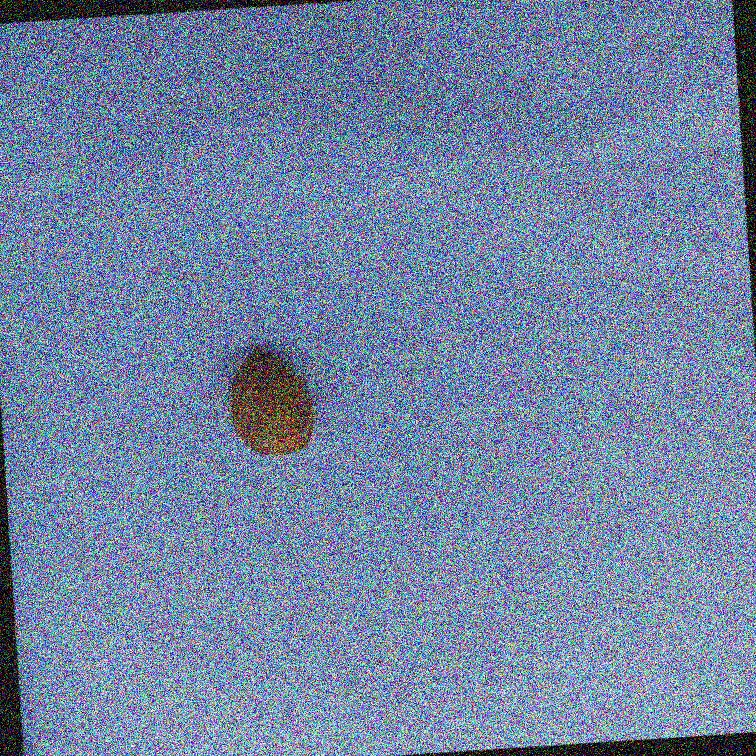grade2: (223, 343, 324, 462)
